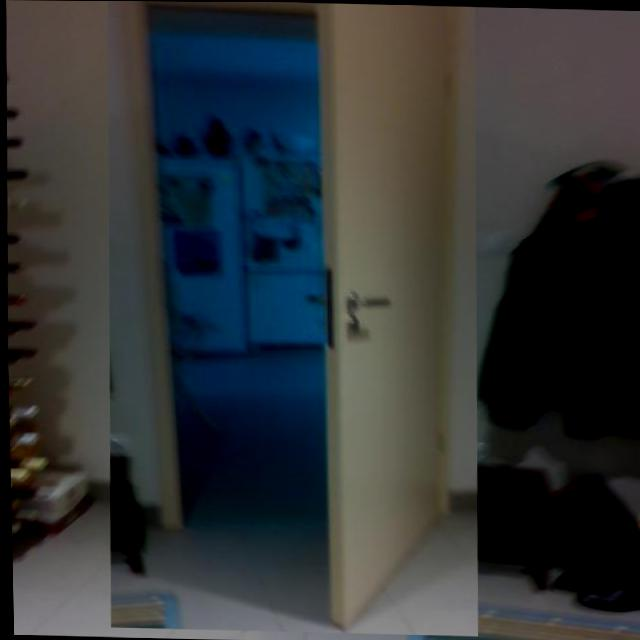semi-open: (97, 1, 488, 637)
